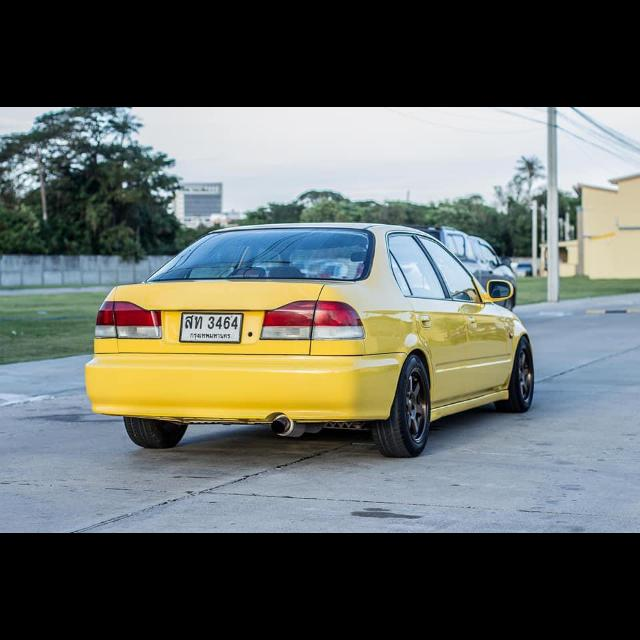cars: (77, 208, 551, 464)
